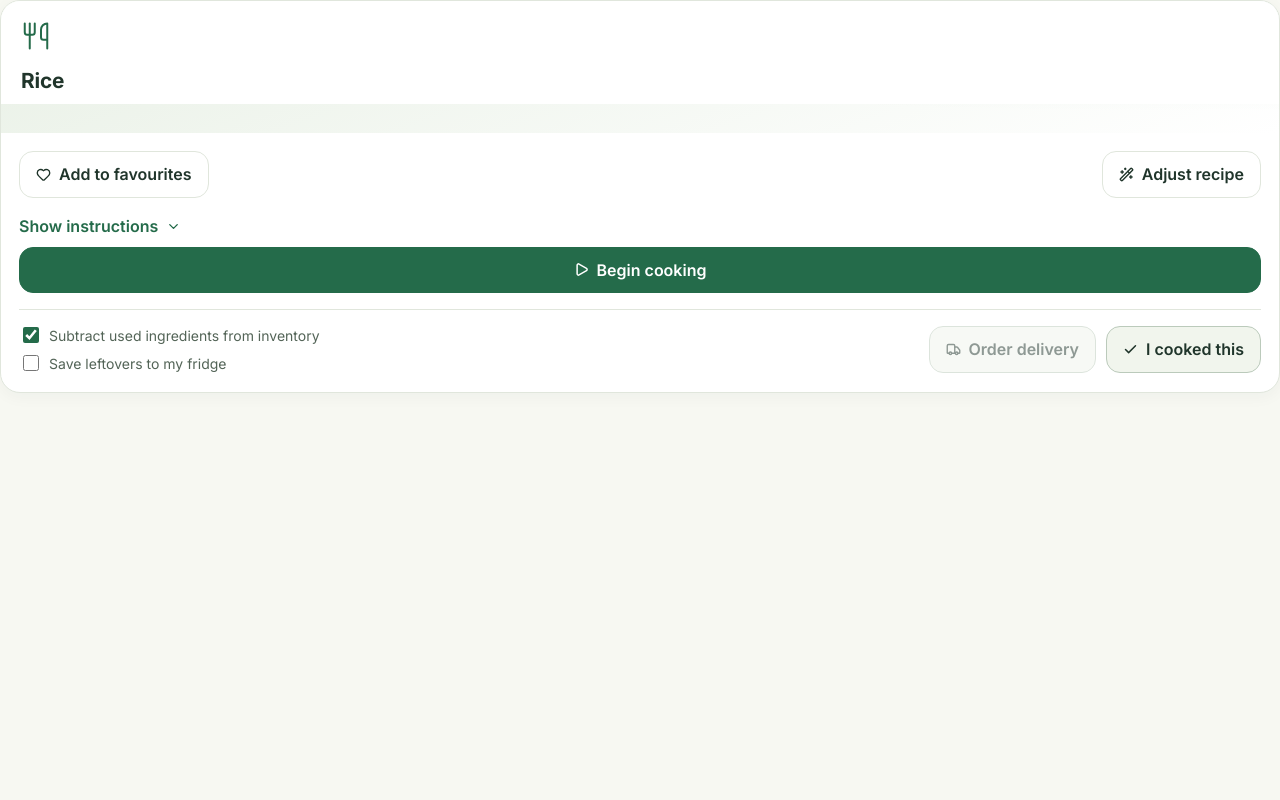
Test: sends the leftovers choice when marking a meal cooked
This screenshot has width=1280, height=800.
Click the checkbox labelled "Save leftovers to my fridge". click: (31, 363)
box: [23,355,39,371]
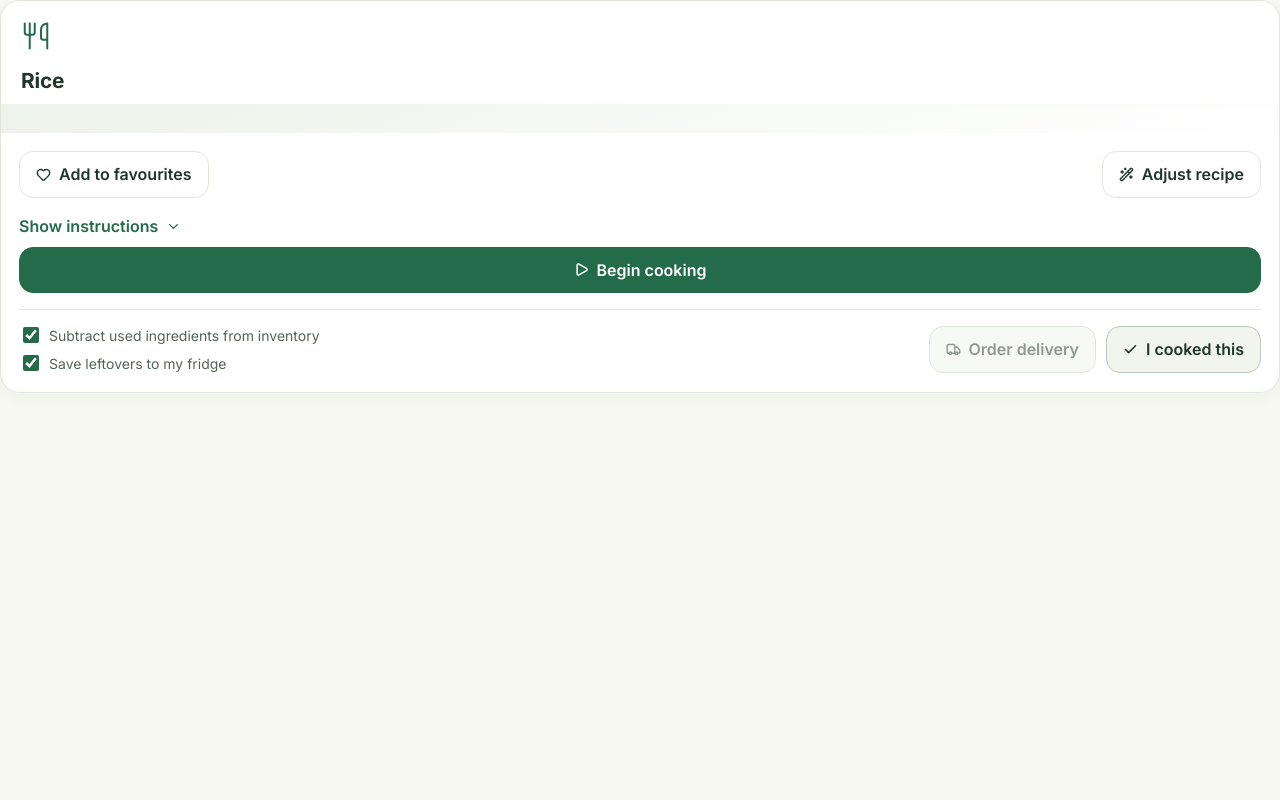
Click the button "I cooked this". click: (1184, 349)
box: [1106,326,1261,373]
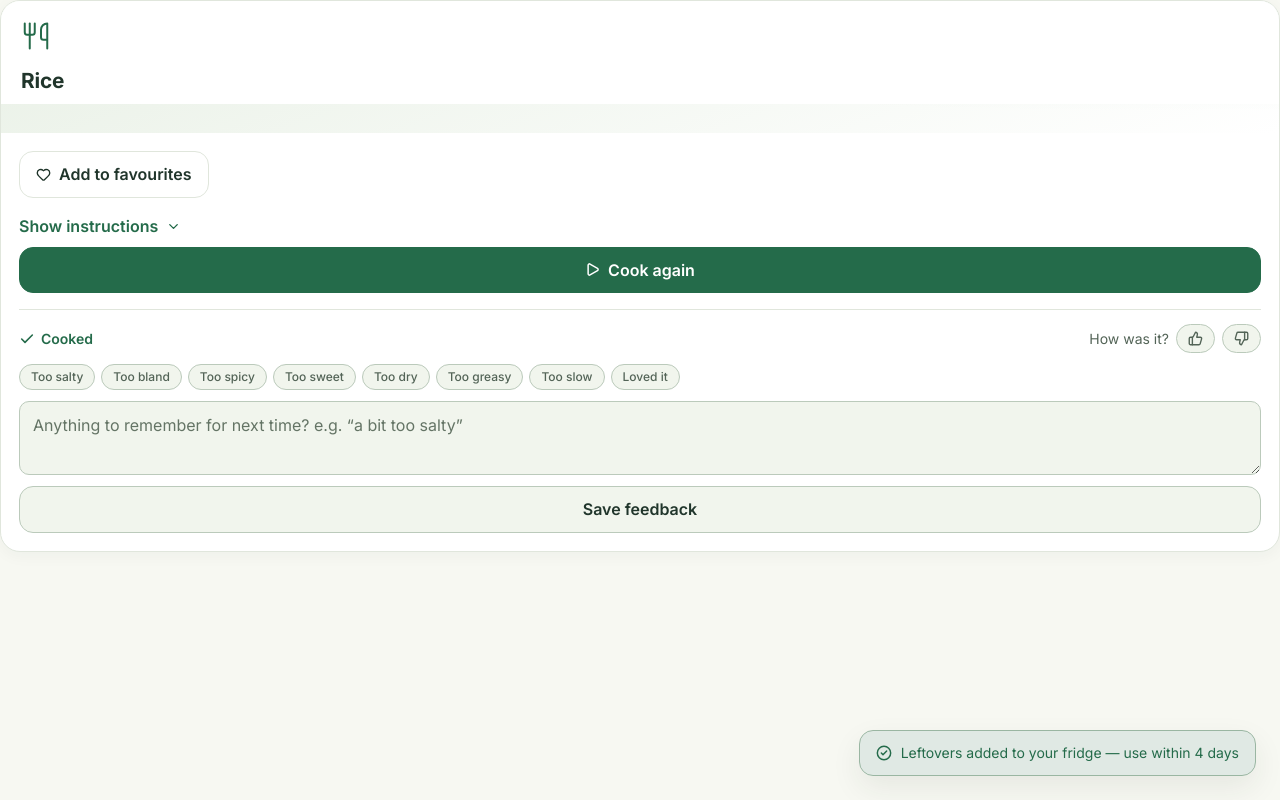
Check: the text "Leftovers added to your fridge — use within 4 days" is shown, box [901,742,1239,764]
